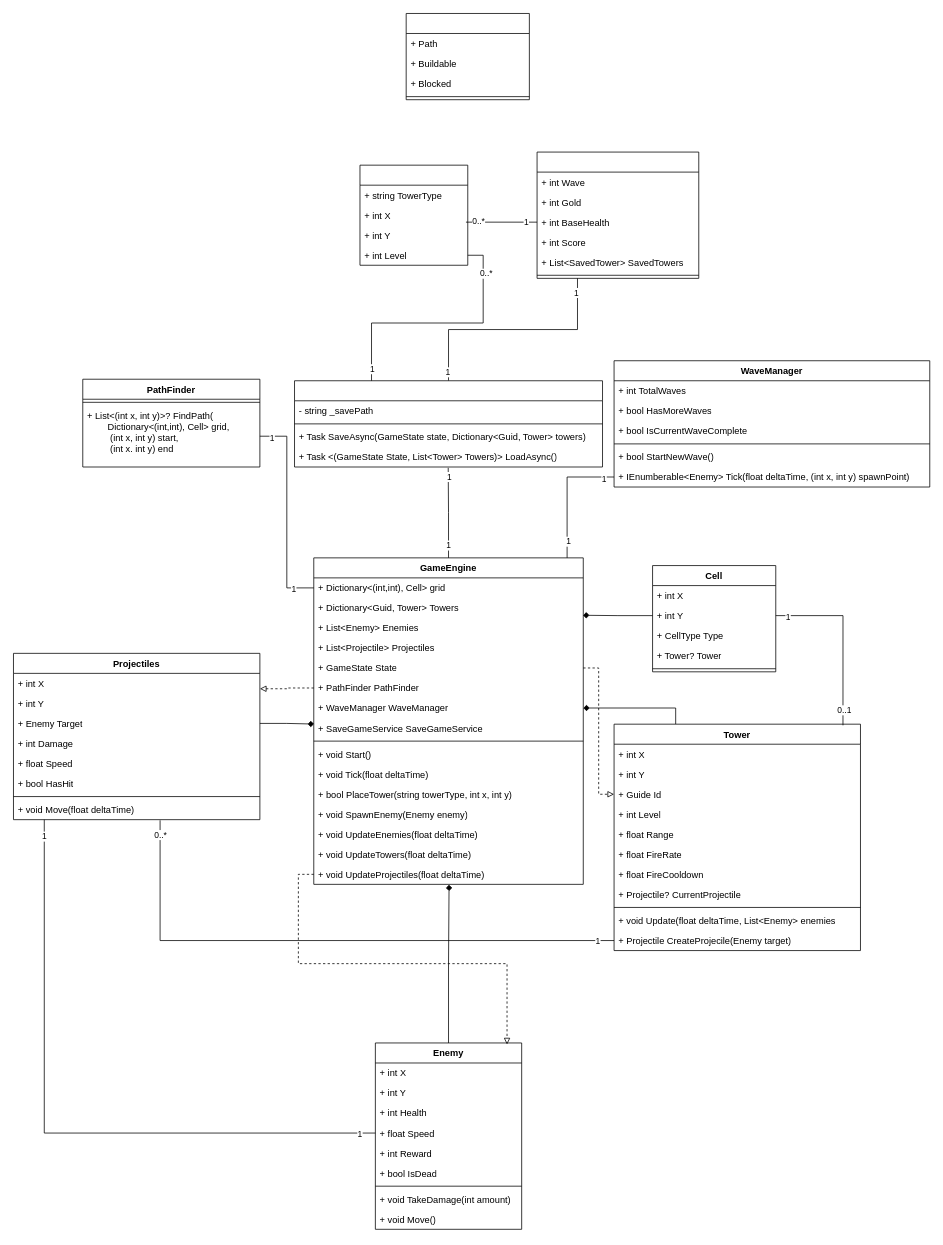
The diagram is 943 pixels wide and 1245 high, and some of its shapes have lost their labels. Here are the shapes that lost their labels. From the top down, the box of each, then its label:
(405, 13, 529, 100): CellType(enum)
(359, 164, 468, 265): SavedTower
(536, 151, 699, 278): GameState
(294, 380, 603, 467): SaveGameService
